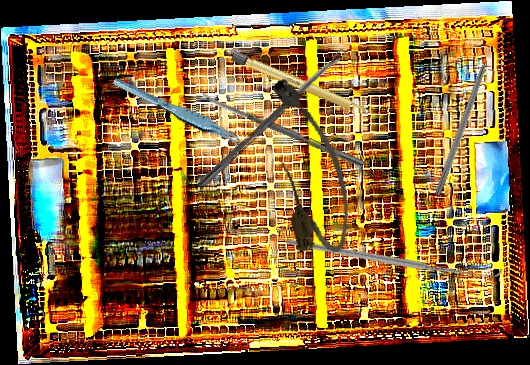Cannula: (261, 70, 360, 260)
Hook Surgical: (284, 151, 504, 361), (433, 42, 498, 197)
Scalpel Handle: (230, 50, 372, 119)
Surgical Spoon: (195, 48, 349, 191), (197, 90, 366, 168)
Tissue Forceps: (111, 62, 248, 164)
